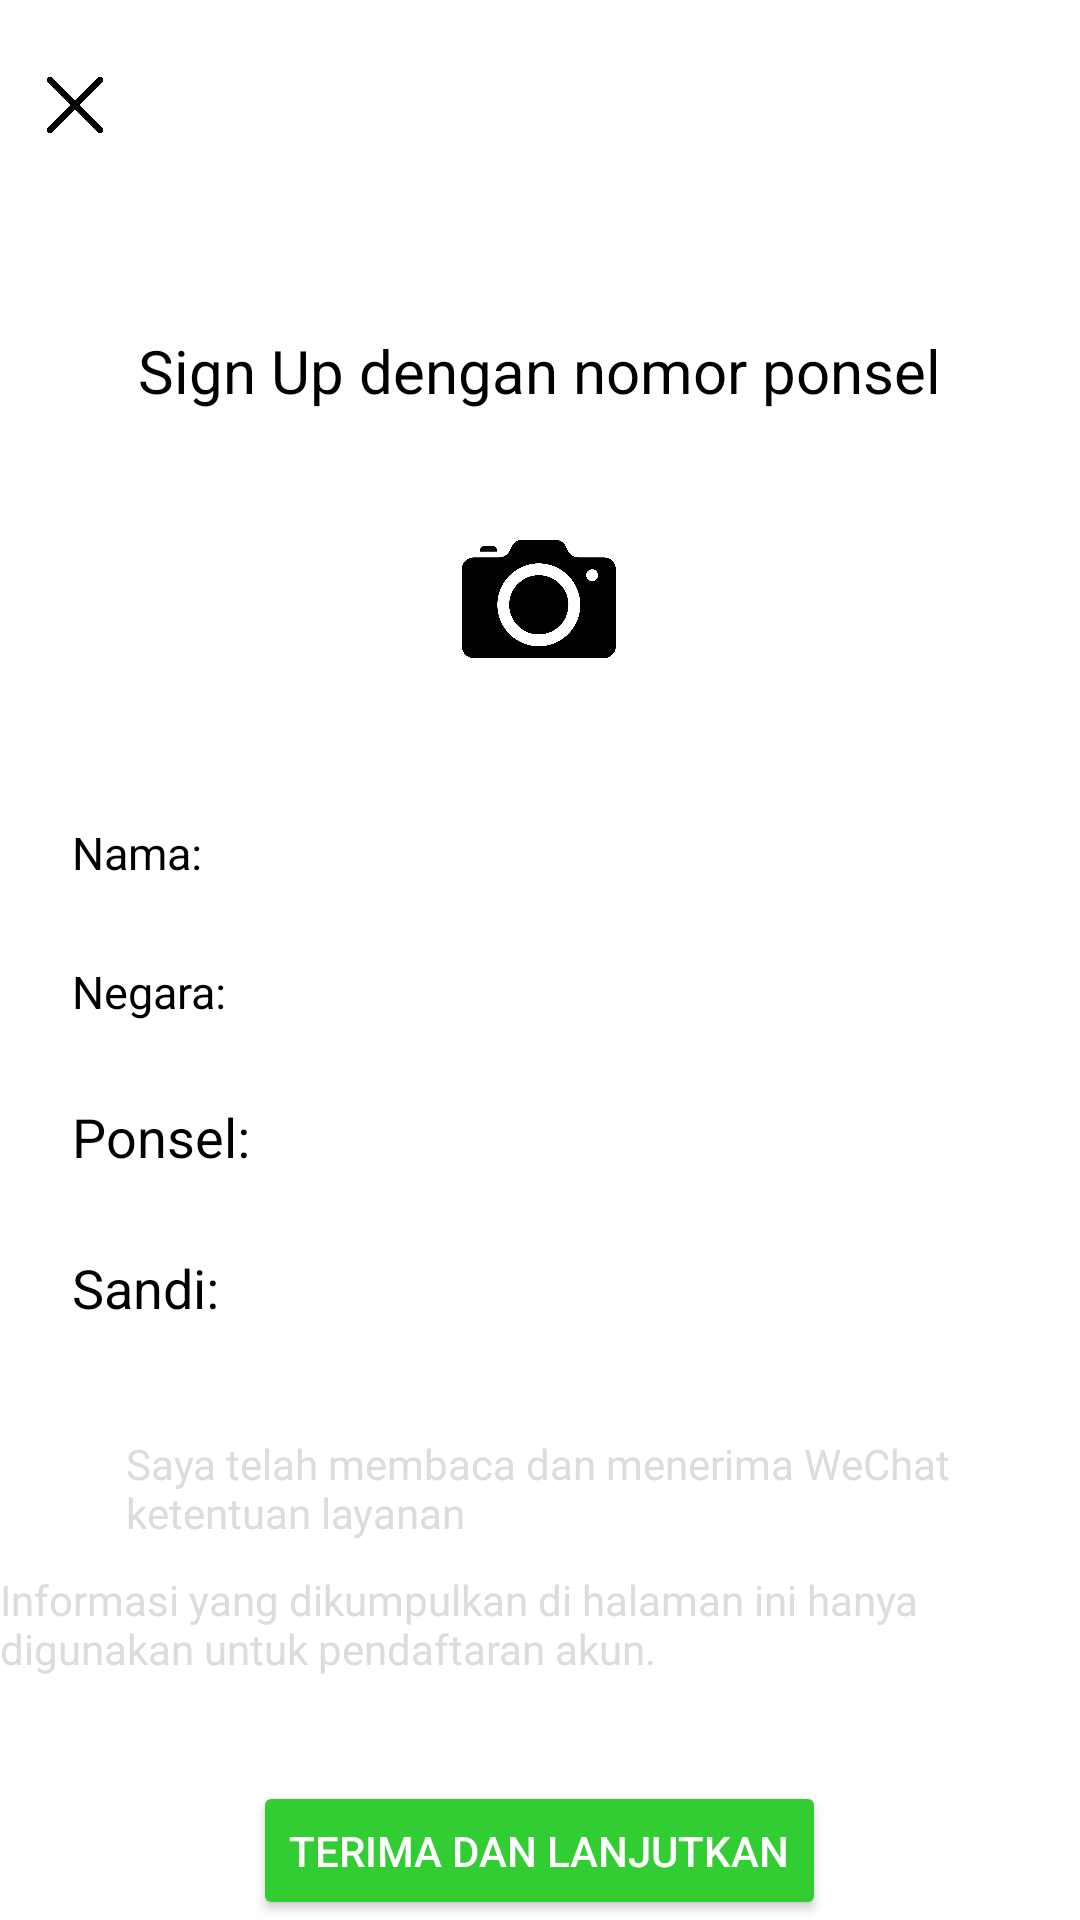

Icon click points for this 1080px×1920px phone screenshot, format (x,y):
kali: (75,105)
kamera: (539,599)
